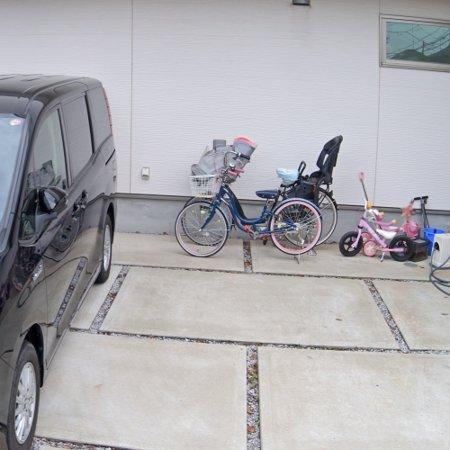bicycles: (175, 176, 321, 257)
